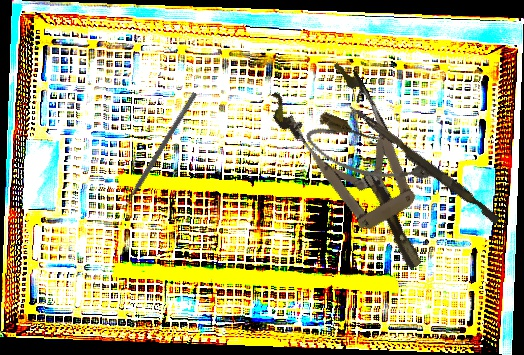Cannula: (300, 108, 442, 202)
Pusher: (344, 104, 504, 225)
Spatula Surgical: (117, 88, 198, 213)
Speculum: (263, 52, 456, 291)
